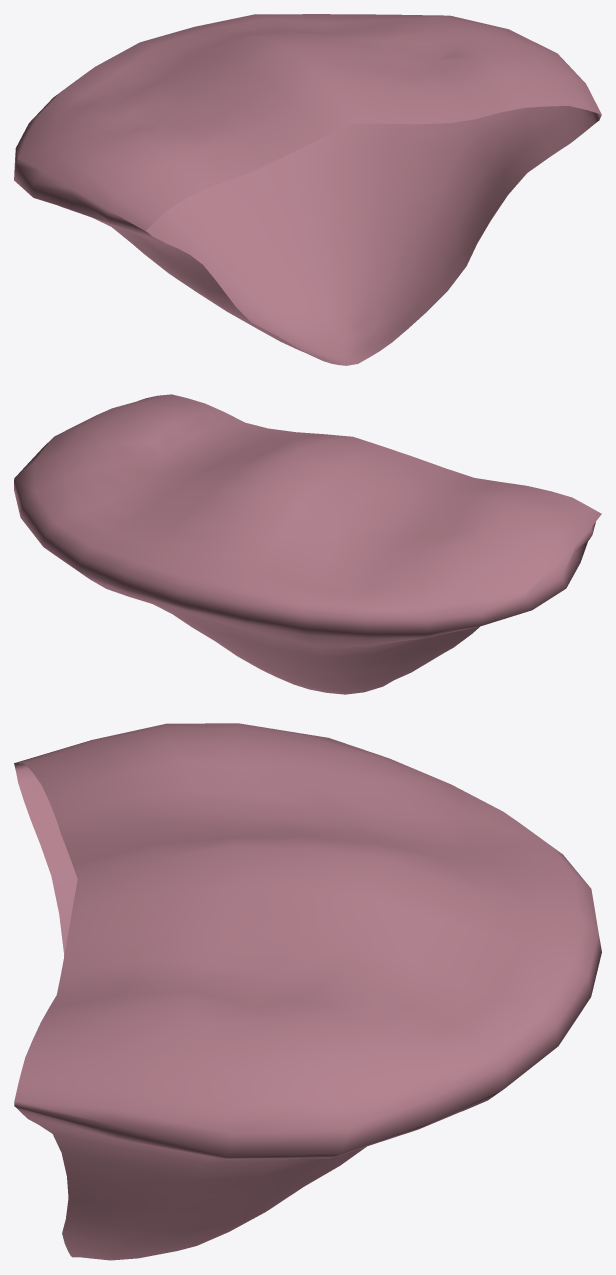
File: table coral.fbx
The picture shows the model from 3 angles, top to bottom: view 1: azimuth 30°, elevation 25°; view 2: azimuth 150°, elevation 25°; view 3: azimuth 270°, elevation 25°; orthographic projection. The views are drawn at different scales.
Visible parts, largest first — view 1: pCylinder6; view 2: pCylinder6; view 3: pCylinder6.
Boxes of the visible parts, x1,y1,x2,y2 form: pCylinder6: (14, 14, 601, 365); pCylinder6: (14, 394, 601, 694); pCylinder6: (14, 723, 601, 1260).
Bounding box in the file's own units: 0.2996 × 0.142 × 0.186.
